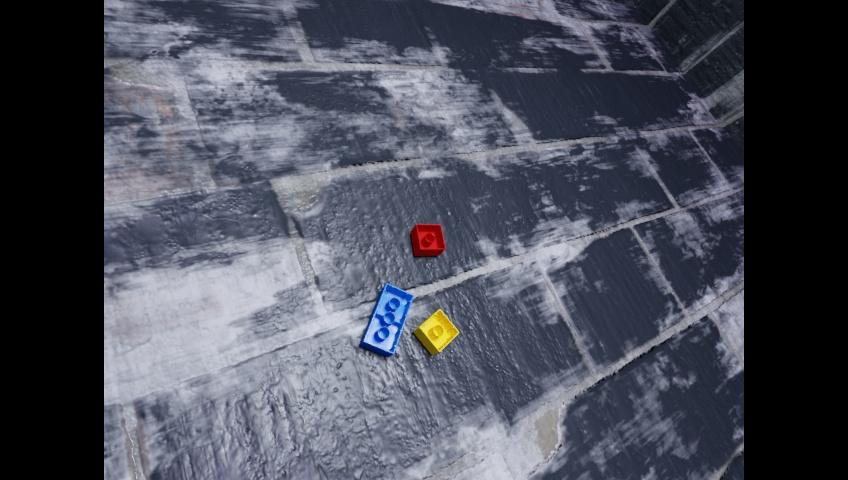2x2_red: (410, 223, 444, 255)
2x2_yellow: (413, 308, 458, 354)
4x2_blue: (359, 282, 413, 356)
